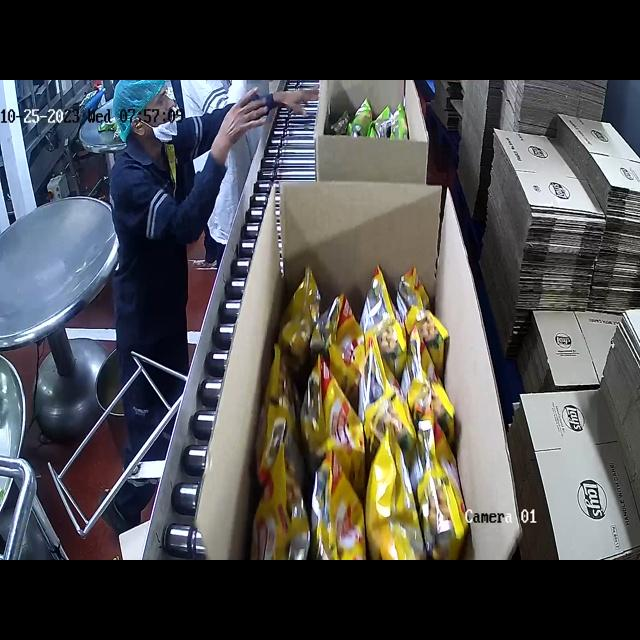salted: (250, 262, 471, 558)
yogurt: (327, 92, 422, 141)
